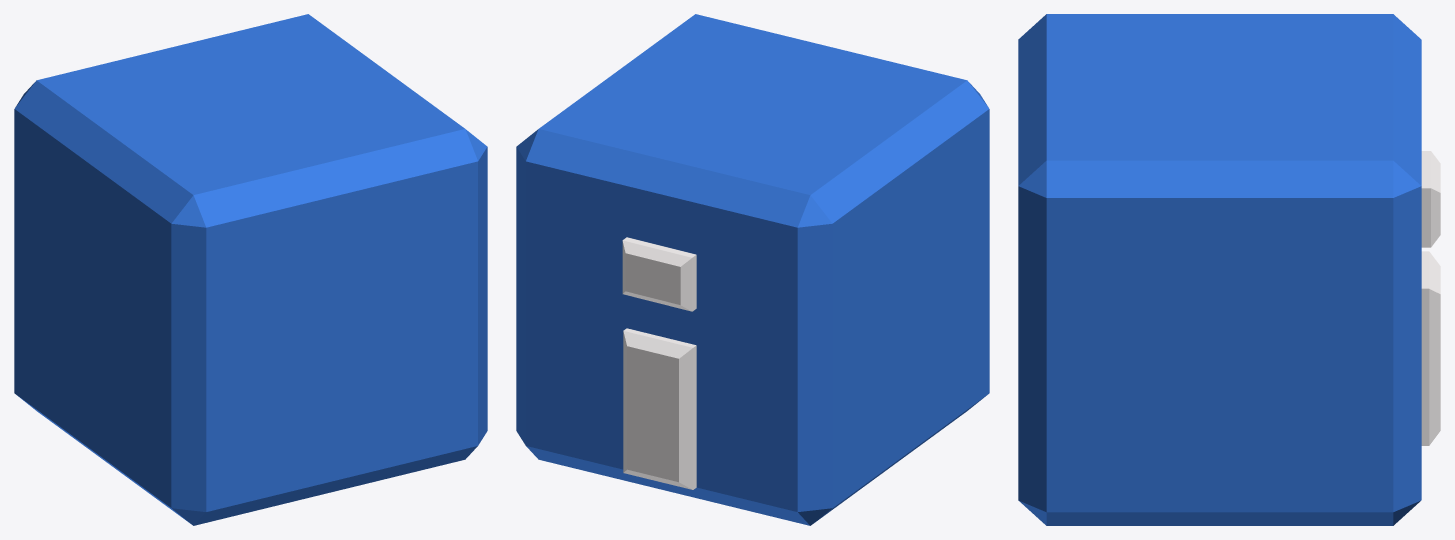
The model's file is InformationBooth 1.fbx.
The picture shows the model from 3 angles, left to right: view 1: azimuth 30°, elevation 25°; view 2: azimuth 150°, elevation 25°; view 3: azimuth 270°, elevation 25°; orthographic projection. The views are drawn at different scales.
Parts seen in each view (by area): view 1: Cube; view 2: Cube, Cube.001; view 3: Cube, Cube.001.
Part boxes in pixels (box(x1,y1,x2,y2)): Cube: box(14, 14, 487, 525); Cube: box(516, 14, 989, 525); Cube.001: box(622, 237, 696, 489); Cube: box(1018, 14, 1421, 525); Cube.001: box(1421, 151, 1440, 445).
Size of the model in its own units: 200 by 200 by 209.
